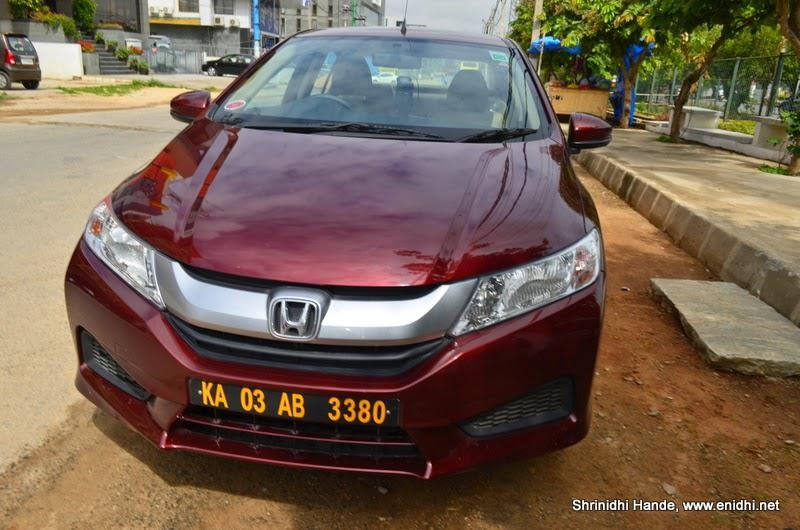number_plate: (186, 376, 395, 430)
